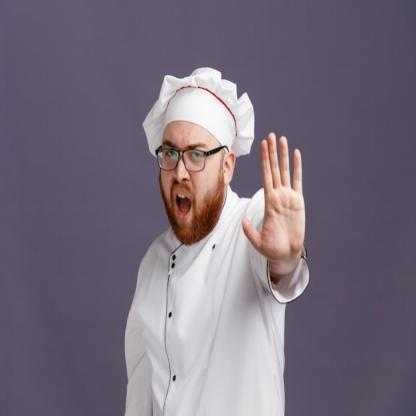stop: (240, 132, 309, 263)
